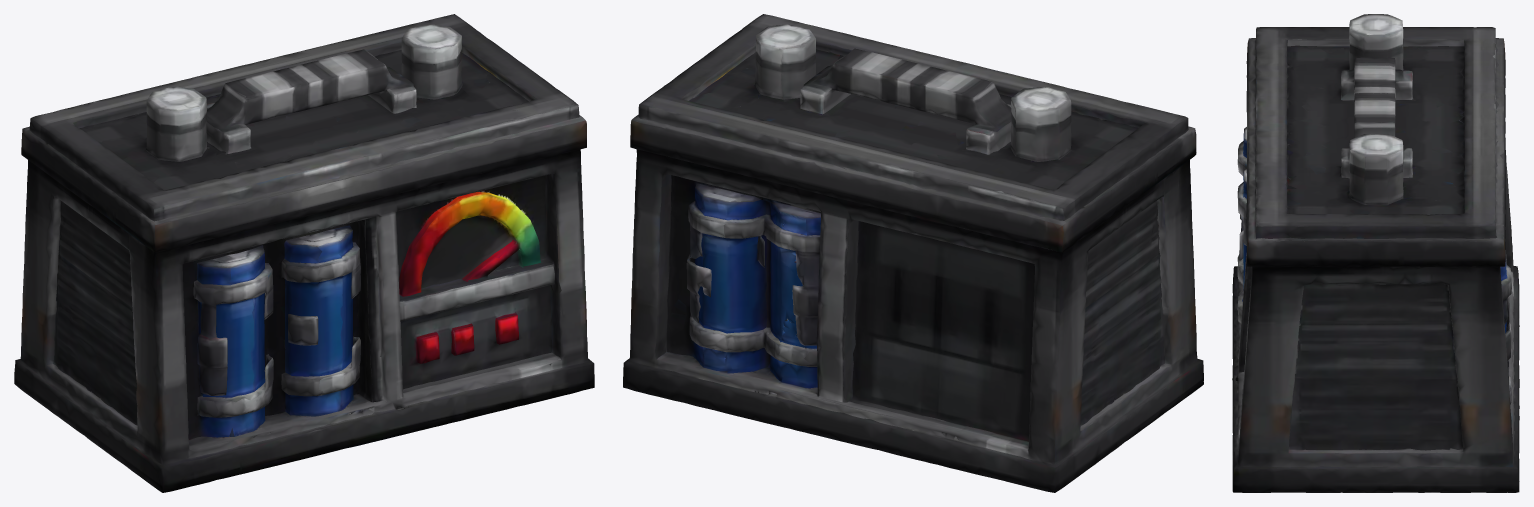
File: CELPA0.obj
3 renders of one model, left to right at view 1: azimuth 30°, elevation 25°; view 2: azimuth 150°, elevation 25°; view 3: azimuth 270°, elevation 25°, orthographic. The views are drawn at different scales.
Bounding box in the file's own units: 1 × 0.708 × 0.5997.
1 material, 1 textured.
